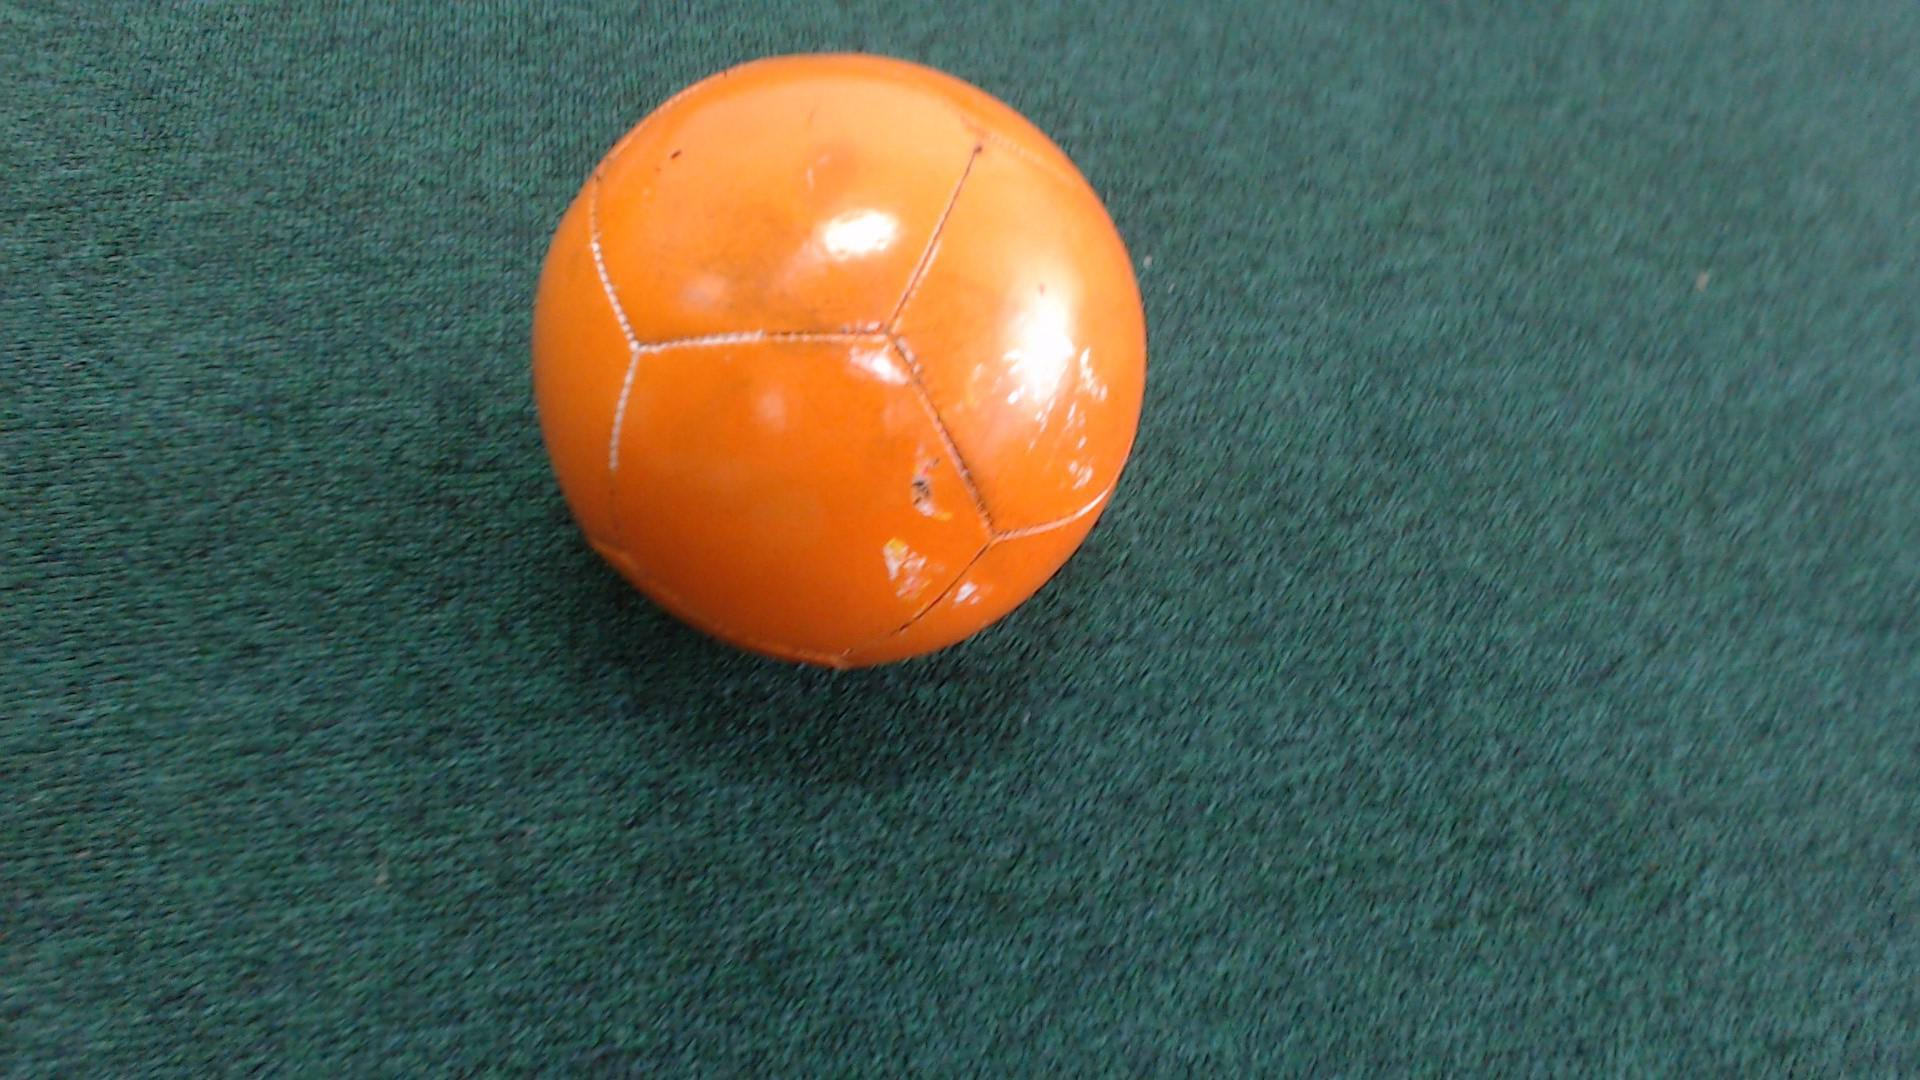bola: (501, 12, 1196, 721)
